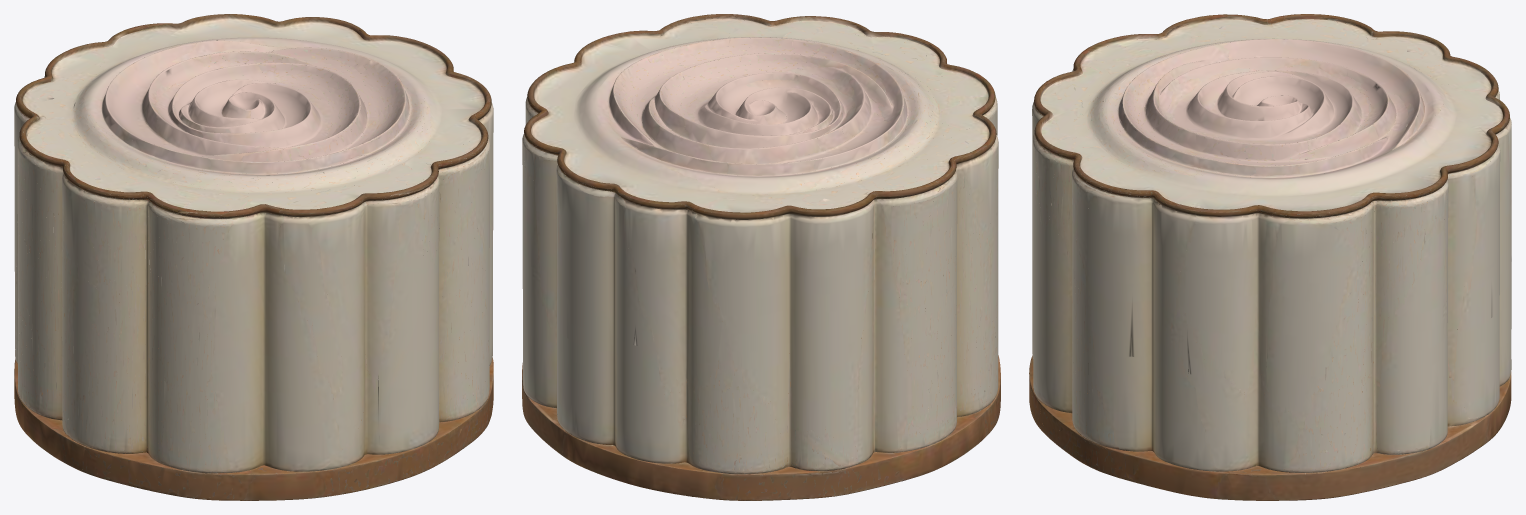
File: cake-08-scalloped-ivory.glb
3 views of the same model, side by side, from view 1: azimuth 30°, elevation 25°; view 2: azimuth 150°, elevation 25°; view 3: azimuth 270°, elevation 25° (orthographic).
Parts seen in each view (by area): view 1: cake-08; view 2: cake-08; view 3: cake-08.
Boxes of the visible parts, bbox=[...] form: cake-08: bbox=[14, 14, 493, 500]; cake-08: bbox=[522, 14, 1000, 500]; cake-08: bbox=[1029, 14, 1511, 500].
Bounding box in the file's own units: 2 × 1.37 × 2.
1 material, 1 textured.
